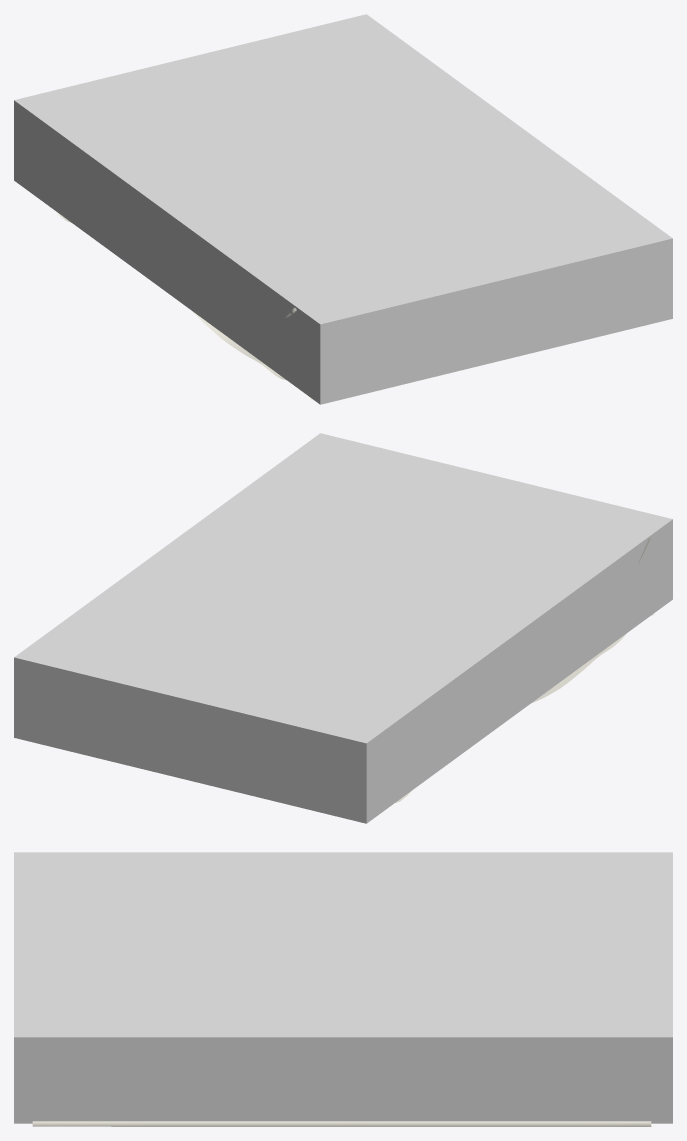
File: newspaper.FBX
3 renders of one model, top to bottom at view 1: azimuth 30°, elevation 25°; view 2: azimuth 150°, elevation 25°; view 3: azimuth 270°, elevation 25°, orthographic. The views are drawn at different scales.
Parts seen in each view (by area): view 1: newspaper; view 2: newspaper; view 3: newspaper (×2).
Boxes of the visible parts, x1,y1,x2,y2 form: newspaper: (14,14,672,404); newspaper: (14,433,672,823); newspaper (×2): (14,852,672,1126).
Bounding box in the file's own units: 56.29 × 14.26 × 82.89.
Materials: 1 (1 with a texture image).
